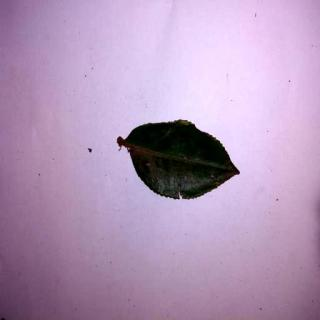Anthracnose: (125, 120, 242, 203)
